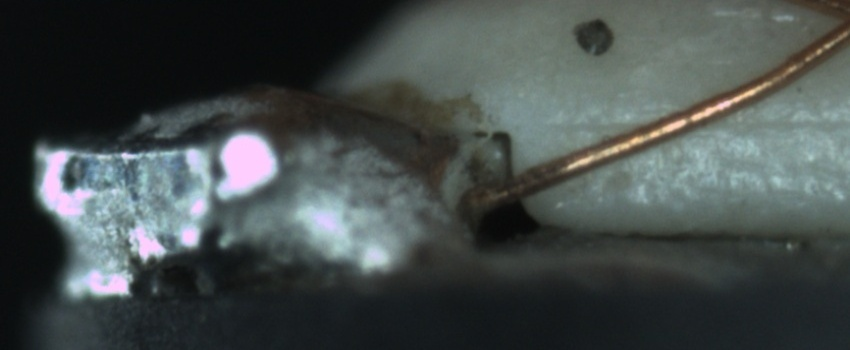CL: (824, 1, 850, 43)
DL: (556, 90, 850, 154)
